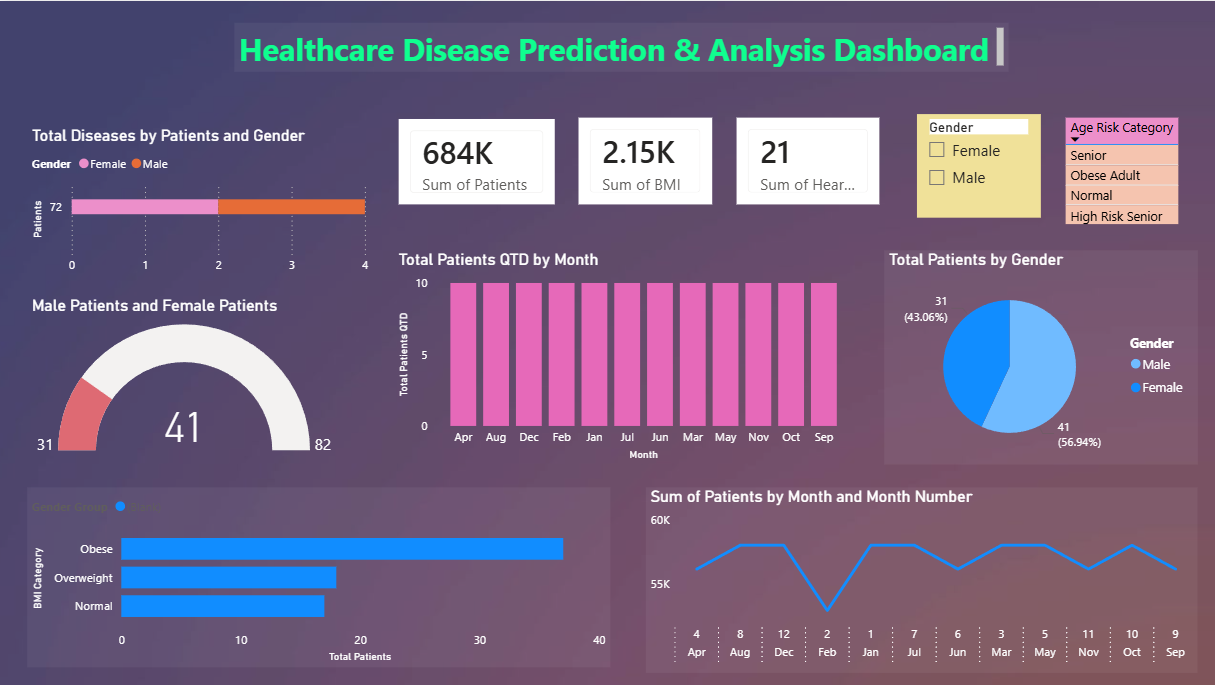

What the dashboard file says about the page in this screenshot:
{"tool":"powerbi","page":{"name":"Page 1","canvas":[1280,720],"ordinal":0},"visuals":[{"type":"barChart","fields":{"Y":["Calendar.Total Diseases"],"Series":["healthcare_disease_prediction_dataset.Gender"],"Category":["Calendar.Patients"]},"box":[28.6,131.4,362.9,164.3],"z":0},{"type":"pieChart","fields":{"Category":["healthcare_disease_prediction_dataset.Gender"],"Y":["Calendar.Total Patients"]},"box":[927.1,261.4,328.6,224.3],"z":1000},{"type":"lineChart","fields":{"Category":["Calendar.Month","Calendar.Month Number"],"Y":["Sum(Calendar.Patients)"]},"box":[677.1,510,578.6,194.3],"z":2000},{"type":"columnChart","fields":{"Category":["Calendar.Month"],"Y":["Calendar.Total Patients QTD"]},"box":[412.9,261.9,483.6,224.5],"z":3000},{"type":"barChart","fields":{"Y":["Calendar.Total Patients"],"Category":["healthcare_disease_prediction_dataset.BMI Category"],"Series":["healthcare_disease_prediction_dataset.Gender Group"]},"box":[28.6,510,611.4,188.6],"z":4000},{"type":"slicer","fields":{"Values":["healthcare_disease_prediction_dataset.Gender"]},"box":[961.4,118.6,130,108.6],"z":5000},{"type":"tableEx","fields":{"Values":["healthcare_disease_prediction_dataset.Age Risk Category"]},"box":[1111.4,117.1,144.3,137.1],"z":6000},{"type":"gauge","fields":{"Y":["Calendar.Male Patients"],"MinValue":["Calendar.Female Patients"]},"box":[28.6,310,328.6,175.7],"z":7000},{"type":"textbox","box":[245.7,22.9,811.4,51.4],"z":8000},{"type":"cardVisual","fields":{"Data":["Sum(healthcare_disease_prediction_dataset.BMI)"]},"box":[601.4,117.1,150,101.4],"z":9000},{"type":"cardVisual","fields":{"Data":["Sum(Calendar.Patients)"]},"box":[412.9,118.6,174.3,100],"z":10000},{"type":"cardVisual","fields":{"Data":["Sum(healthcare_disease_prediction_dataset.Heart Disease)"]},"box":[767.1,117.1,160,101.4],"z":11000}]}

Visuals, with their boxes in screenshot pixels (x1, y1, x2, y2), scaled from the page's 1280x720 canvas onto the 1215x685 screenshot:
barChart - Calendar.Total Diseases x healthcare_disease_prediction_dataset.Gender: (x1=27, y1=125, x2=372, y2=281)
pieChart - healthcare_disease_prediction_dataset.Gender x Calendar.Total Patients: (x1=880, y1=249, x2=1192, y2=462)
lineChart - Calendar.Month x Calendar.Month Number: (x1=643, y1=485, x2=1192, y2=670)
columnChart - Calendar.Month x Calendar.Total Patients QTD: (x1=392, y1=249, x2=851, y2=463)
barChart - Calendar.Total Patients x healthcare_disease_prediction_dataset.BMI Category: (x1=27, y1=485, x2=608, y2=665)
slicer - healthcare_disease_prediction_dataset.Gender: (x1=913, y1=113, x2=1036, y2=216)
tableEx - healthcare_disease_prediction_dataset.Age Risk Category: (x1=1055, y1=111, x2=1192, y2=242)
gauge - Calendar.Male Patients x Calendar.Female Patients: (x1=27, y1=295, x2=339, y2=462)
textbox: (x1=233, y1=22, x2=1003, y2=71)
cardVisual - Sum(healthcare_disease_prediction_dataset.BMI): (x1=571, y1=111, x2=713, y2=208)
cardVisual - Sum(Calendar.Patients): (x1=392, y1=113, x2=557, y2=208)
cardVisual - Sum(healthcare_disease_prediction_dataset.Heart Disease): (x1=728, y1=111, x2=880, y2=208)
